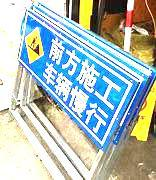sign: (23, 11, 127, 141)
